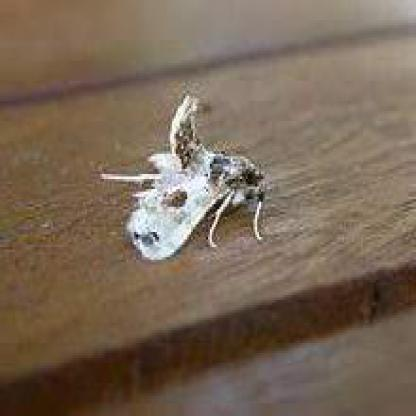leucinodes: (128, 96, 266, 262)
